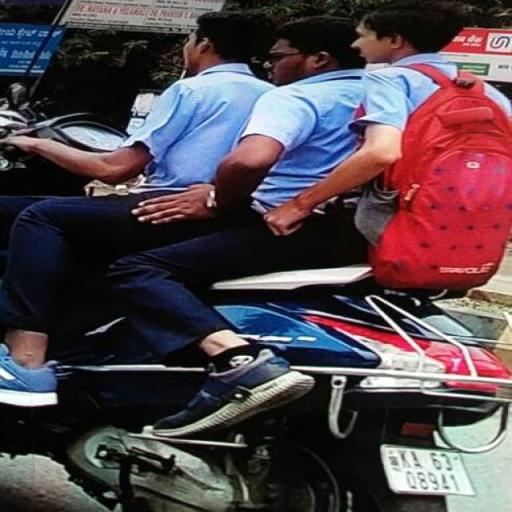tripple riding: (5, 11, 511, 244)
